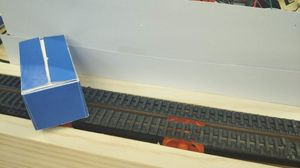box3: (16, 31, 89, 131)
